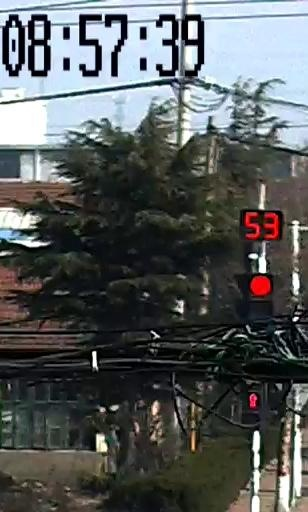red: (248, 278, 274, 299)
redpeople: (244, 388, 259, 411)
redtime: (240, 209, 285, 243)
